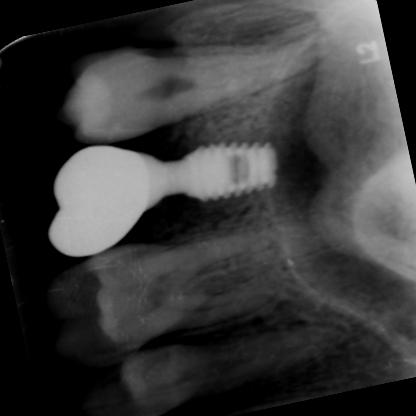Bicon: (132, 124, 282, 214)
